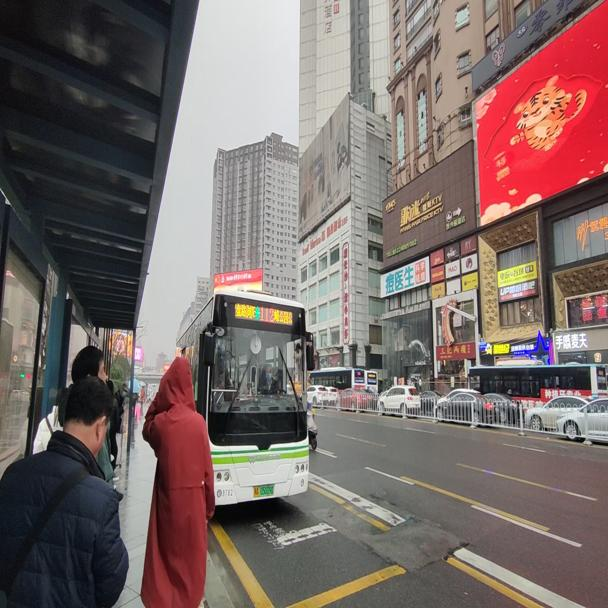bus: (172, 285, 314, 510)
screen: (260, 304, 273, 324)
